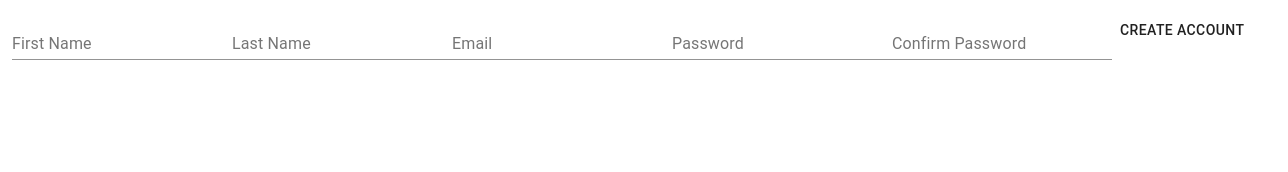
Test: <CreateAccountform /> › should show the proper errors when invalid values are entered
Type "invalid email" into the field labelled "Email".
click(562, 44); type("invalid email")  # box [452,28,672,60]
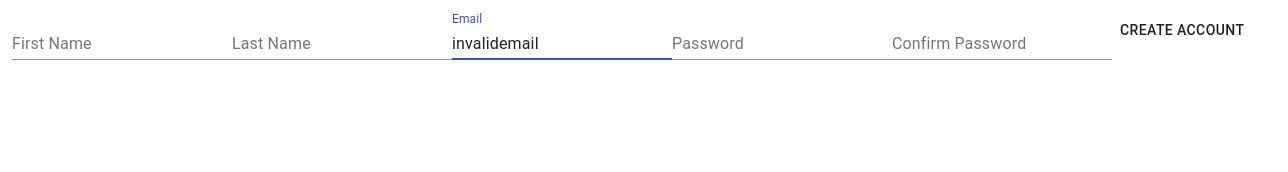
Type "12345" into the password field labelled "Password".
click(782, 44); type("12345")  # box [672,28,892,60]
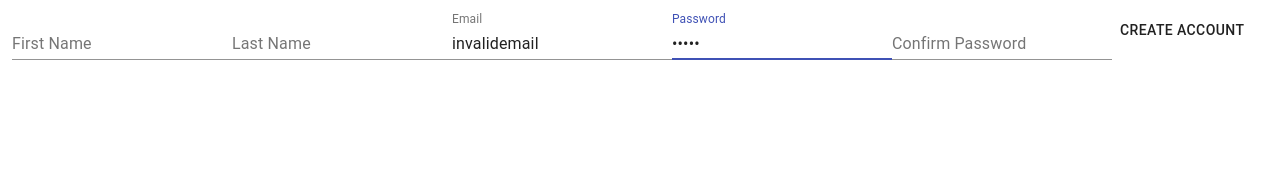
Type "123" into the password field labelled "Confirm Password".
click(1002, 44); type("123")  # box [892,28,1112,60]
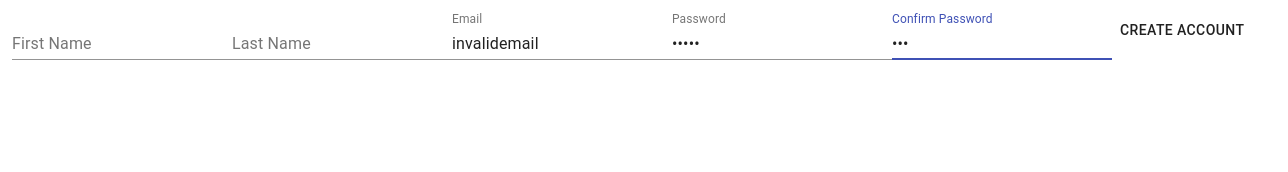
Type "john" into the field labelled "First Name".
click(122, 44); type("john")  # box [12,28,232,60]
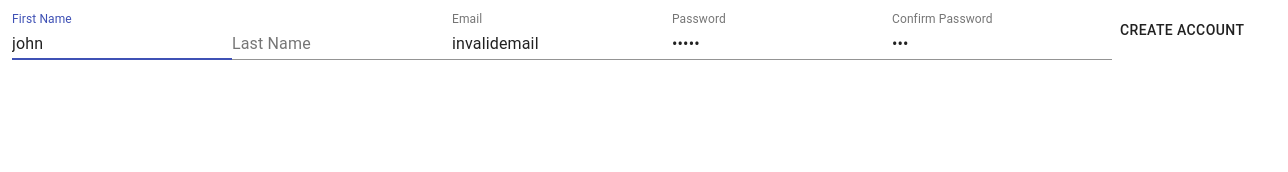
Type "doe" into the field labelled "Last Name".
click(342, 44); type("doe")  # box [232,28,452,60]
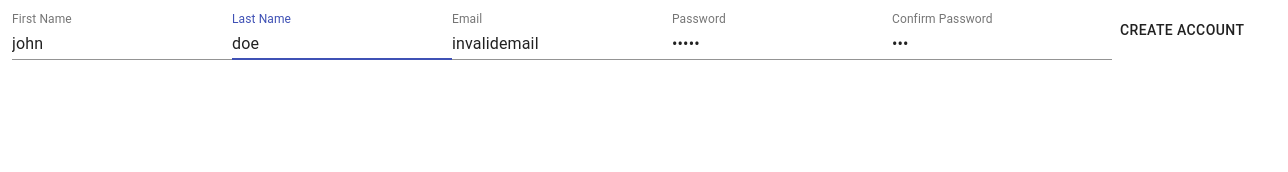
Click the button.
click(1182, 30)  # box [1112,12,1252,48]
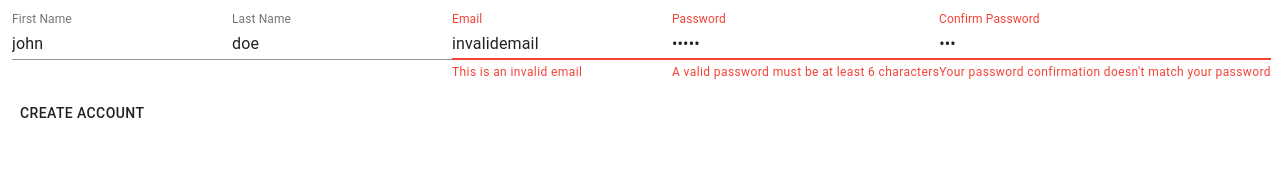
Check: the text "This is an invalid email" is shown, box [452,65,582,79]
Check: the text "A valid password must be at least 6 characters" is shown, box [672,65,939,79]
Check: the text "Your password confirmation doesn't match your password" is shown, box [939,65,1271,79]
